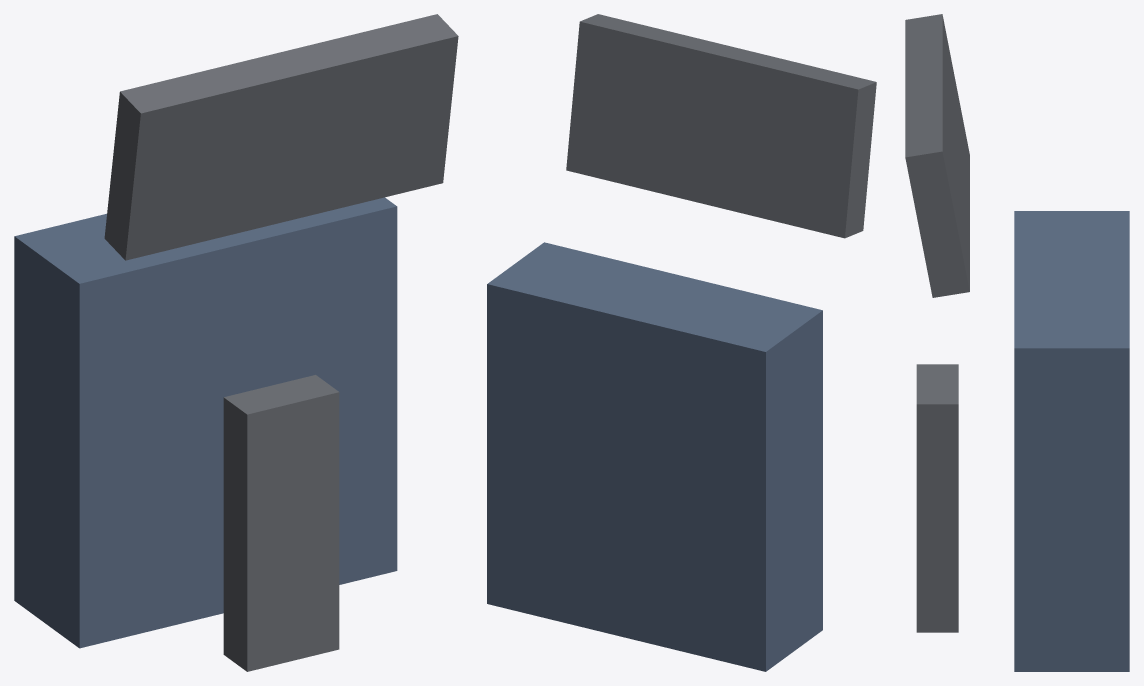
File: wear_pocket.glb
The picture shows the model from 3 angles, left to right: view 1: azimuth 30°, elevation 25°; view 2: azimuth 150°, elevation 25°; view 3: azimuth 270°, elevation 25°; orthographic projection. The views are drawn at different scales.
Parts seen in each view (by area): view 1: pocket_body, pocket_flap, pocket_pleat; view 2: pocket_body, pocket_flap; view 3: pocket_body, pocket_flap, pocket_pleat.
Boxes of the visible parts, x1,y1,x2,y2 form: pocket_body: (14,197,397,648); pocket_flap: (104,14,458,260); pocket_pleat: (223,375,339,671); pocket_body: (487,242,822,671); pocket_flap: (566,14,876,238); pocket_body: (1014,211,1129,671); pocket_flap: (905,14,969,297); pocket_pleat: (916,364,958,632).
Bounding box in the file's own units: 0.0775 × 0.1392 × 0.0534.
